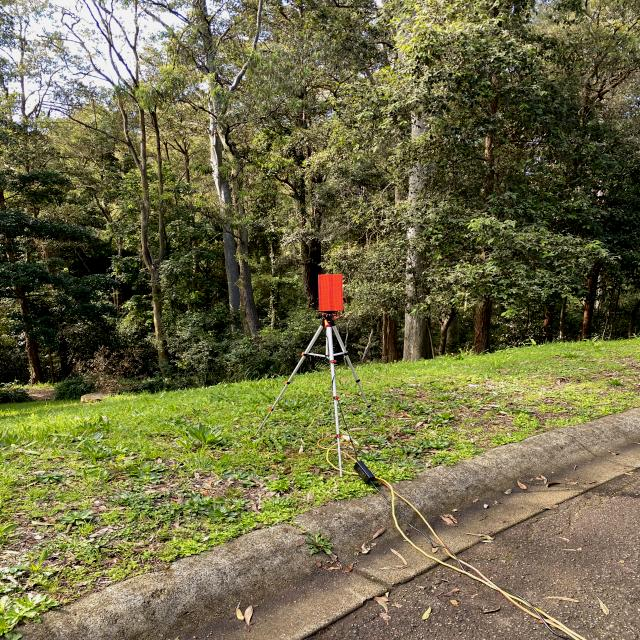matrix: (317, 274, 345, 313)
